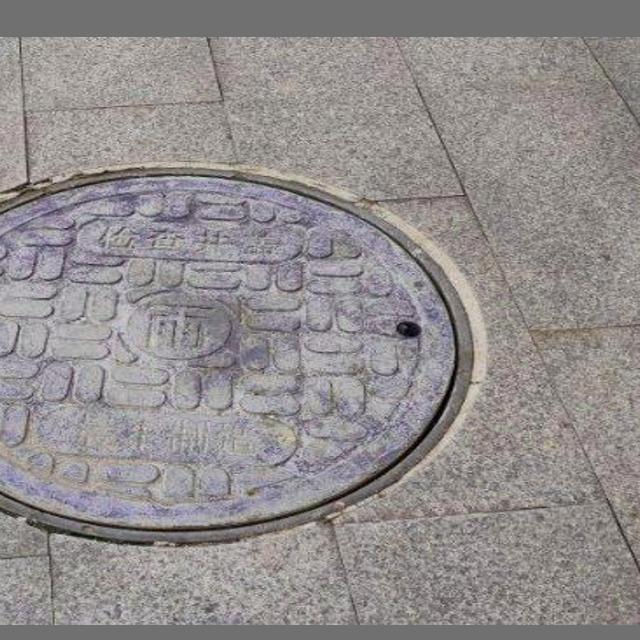good: (0, 152, 498, 560)
